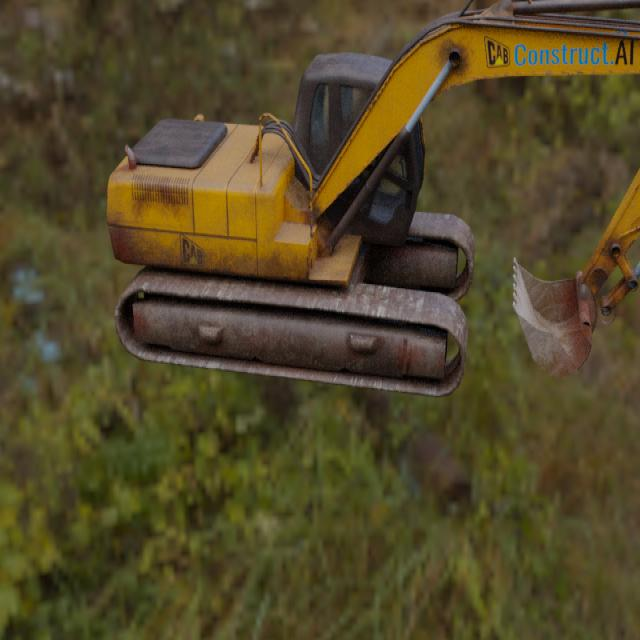excavator: (106, 0, 640, 399)
